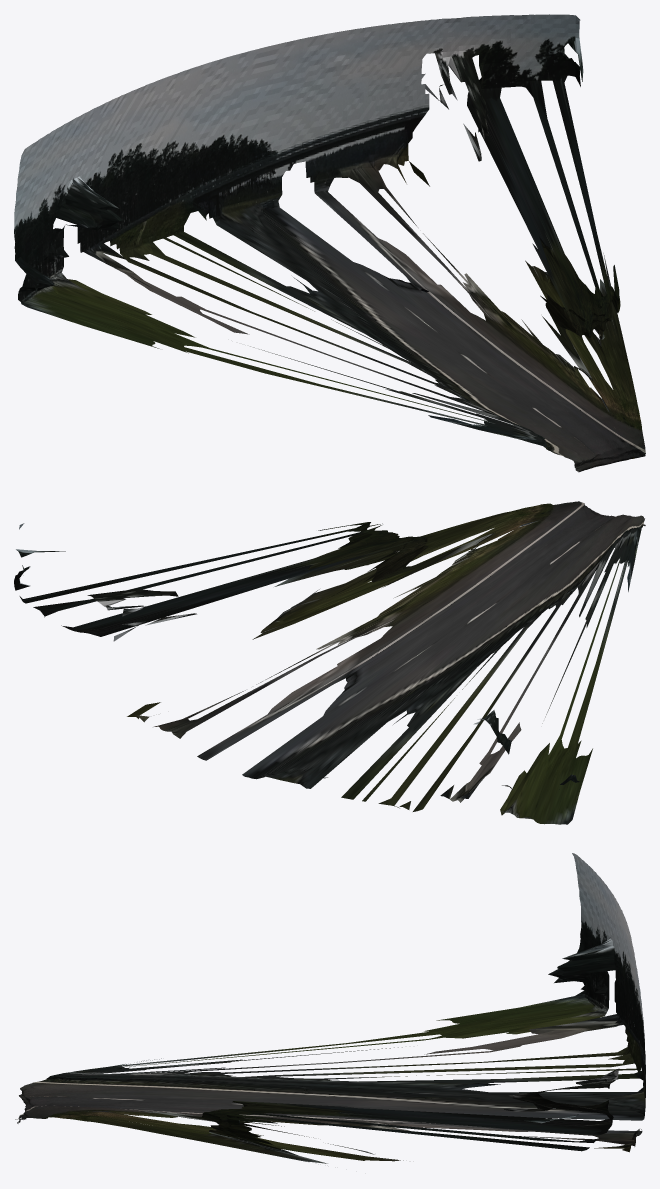
3 views of the same model, one above another, from view 1: azimuth 30°, elevation 25°; view 2: azimuth 150°, elevation 25°; view 3: azimuth 270°, elevation 25° (orthographic). The views are drawn at different scales.
Visible parts, largest first — view 1: defaultobject; view 2: defaultobject; view 3: defaultobject.
Boxes of the visible parts, box(x1,y1,x2,y2) form: defaultobject: box(14, 14, 645, 472); defaultobject: box(14, 501, 645, 824); defaultobject: box(15, 853, 645, 1163).
Size of the model in its own units: 40.89 by 12.08 by 44.68.
Materials: 1 (1 with a texture image).
